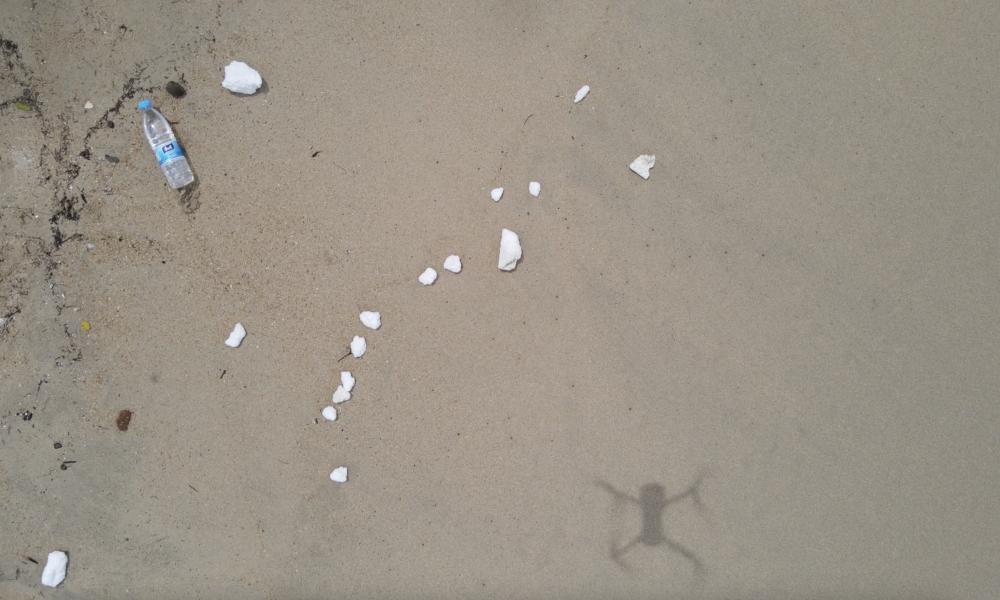plastic bottle: (138, 98, 195, 191)
styrofoam: (224, 60, 262, 93), (42, 548, 68, 586), (499, 231, 519, 269), (336, 373, 355, 404), (632, 154, 655, 177), (226, 322, 246, 347), (362, 308, 382, 329), (350, 336, 366, 358), (442, 252, 458, 272), (574, 81, 588, 100), (422, 272, 440, 284), (335, 466, 347, 480)
